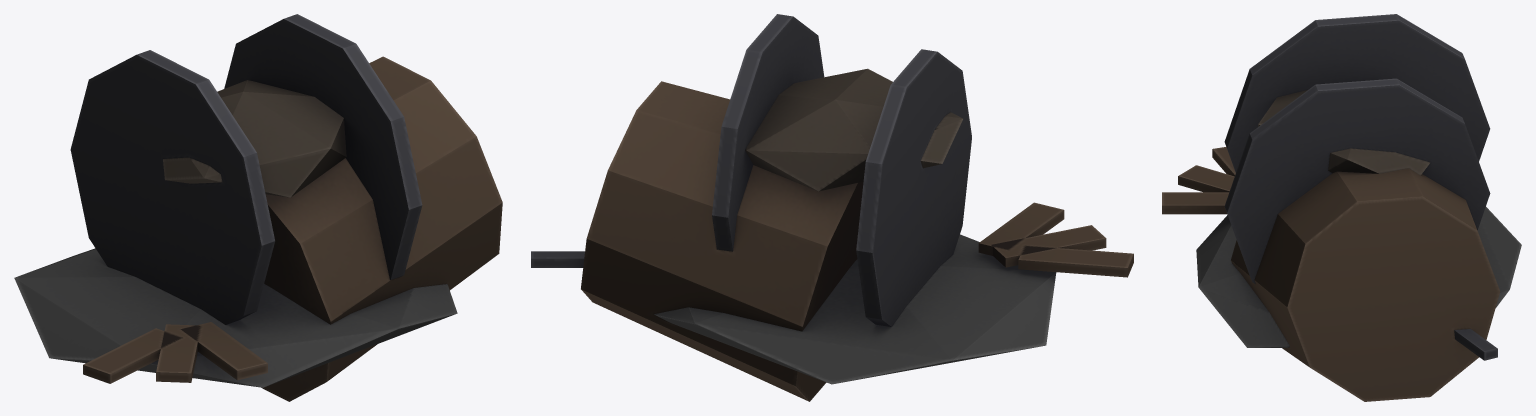
File: sign_giant_barrel.glb
3 views of the same model, side by side, from view 1: azimuth 30°, elevation 25°; view 2: azimuth 150°, elevation 25°; view 3: azimuth 270°, elevation 25° (orthographic). The views are drawn at different scales.
Visible parts, largest first — view 1: sign_giant_barrel; view 2: sign_giant_barrel; view 3: sign_giant_barrel.
Boxes of the visible parts, x1,y1,x2,y2 form: sign_giant_barrel: [14, 14, 502, 401]; sign_giant_barrel: [531, 14, 1133, 401]; sign_giant_barrel: [1162, 14, 1521, 401].
Bounding box in the file's own units: 1.55 × 1.07 × 1.13.
1 material, 1 textured.
